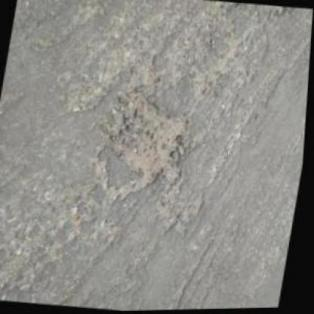Hueco: (95, 90, 200, 198)
